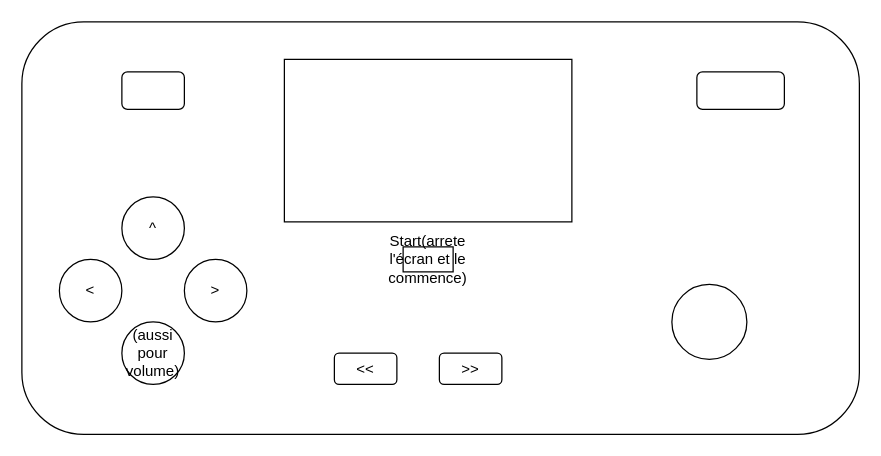
This 881x456 diagram has some shape labels left out. Each missing label, with the centre of its shape:
"Capture d'écran" belongs at (152,90).
"Enter(Ok)" belongs at (709,321).
"Param" belongs at (740,90).
"Écran retransmet l'écran principal (s'éteint et s'allume)" belongs at (427,140).
